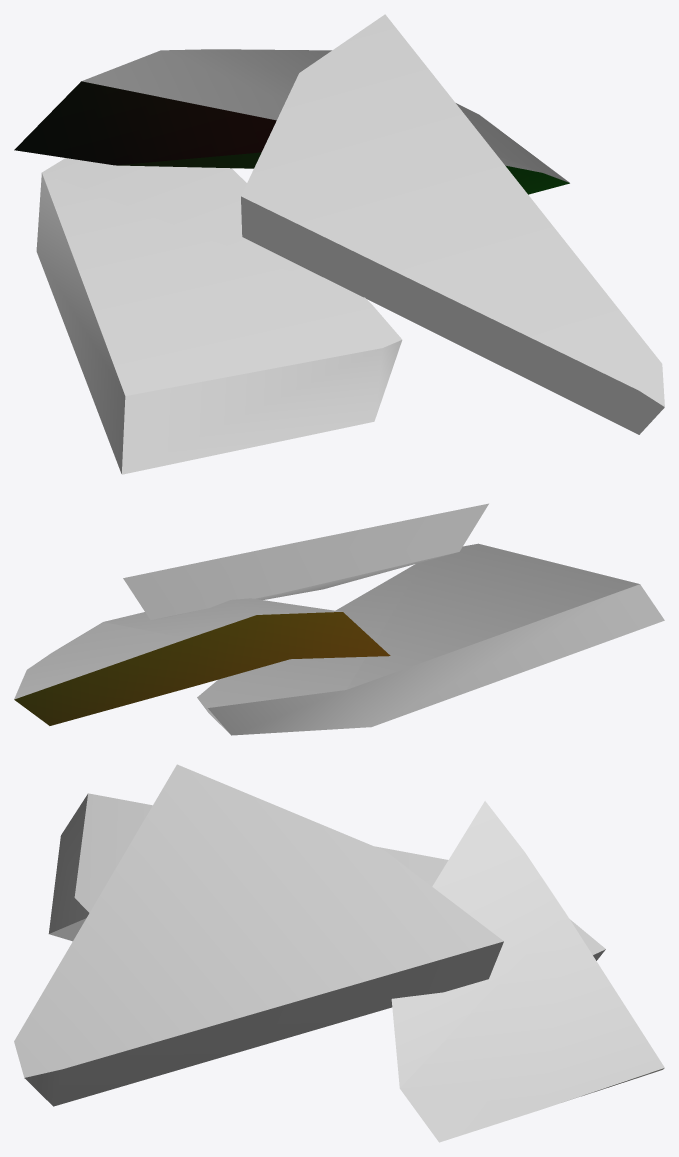
File: Part_3_Roof Piece_05.fbx
3 views of the same model, one above another, from view 1: azimuth 30°, elevation 25°; view 2: azimuth 150°, elevation 25°; view 3: azimuth 270°, elevation 25° (orthographic). The views are drawn at different scales.
Parts seen in each view (by area): view 1: Part_3_Roof Piece_05; view 2: Part_3_Roof Piece_05; view 3: Part_3_Roof Piece_05.
Boxes of the visible parts, x1,y1,x2,y2 form: Part_3_Roof Piece_05: [14, 14, 664, 474]; Part_3_Roof Piece_05: [14, 503, 664, 735]; Part_3_Roof Piece_05: [14, 764, 664, 1142].
Bounding box in the file's own units: 15.55 × 5.72 × 15.79.
